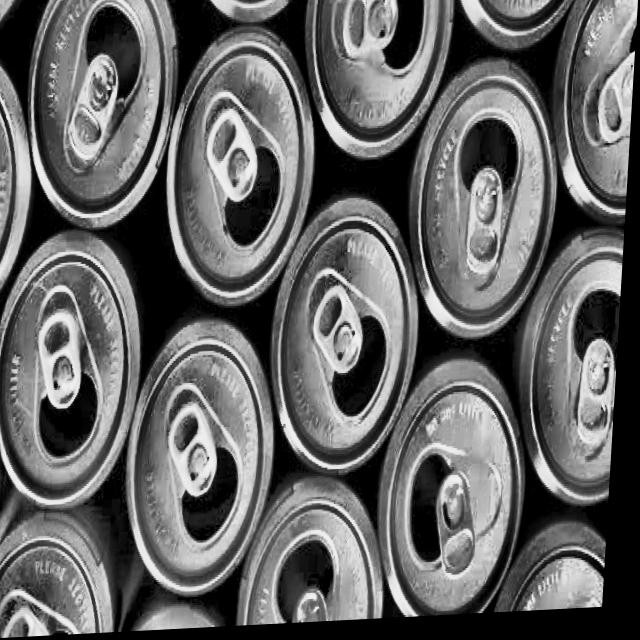can: (159, 22, 326, 320), (403, 54, 568, 353), (123, 311, 289, 603), (266, 195, 432, 487), (0, 222, 153, 521), (380, 354, 542, 623), (20, 0, 186, 238), (515, 232, 628, 513), (297, 0, 457, 170), (241, 471, 400, 629), (546, 0, 640, 250), (0, 510, 134, 640), (500, 520, 615, 618), (0, 46, 41, 319), (446, 0, 593, 63)
